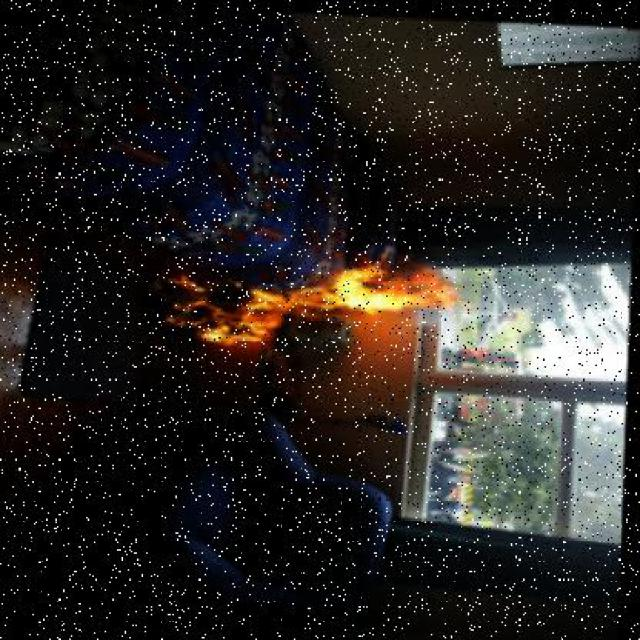fire: (148, 236, 448, 375)
